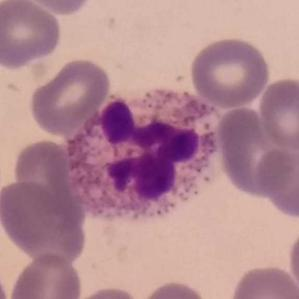Neutrophil: (61, 82, 226, 227)
RBC: (0, 177, 87, 263), (216, 106, 296, 199), (28, 55, 113, 137), (188, 34, 272, 108), (10, 136, 75, 216), (0, 0, 64, 69), (7, 251, 84, 299), (254, 138, 299, 220), (256, 75, 299, 151), (227, 263, 299, 299), (138, 278, 213, 299), (18, 0, 95, 16), (67, 284, 143, 299), (286, 221, 299, 299)
